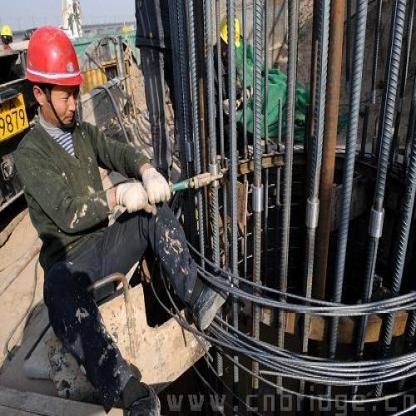helmet: (20, 23, 86, 129), (214, 10, 244, 60)
